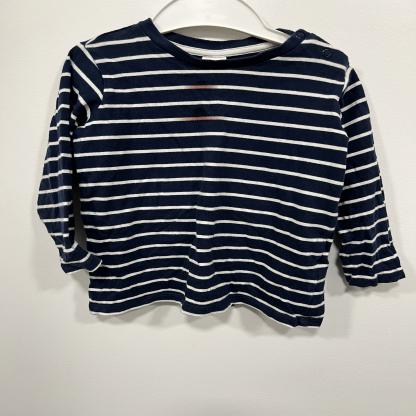stain: (174, 104, 228, 125), (181, 80, 221, 94)
